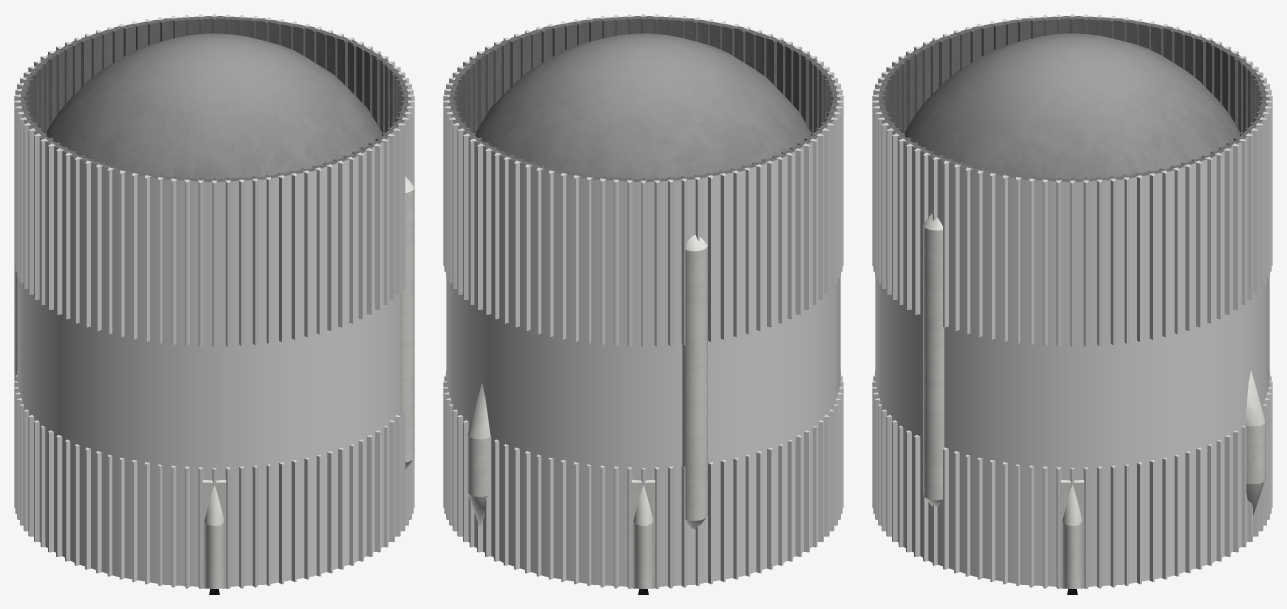
Rendered from ksprocket.fbx.
3 views of the same model, side by side, from view 1: azimuth 30°, elevation 25°; view 2: azimuth 150°, elevation 25°; view 3: azimuth 270°, elevation 25° (orthographic).
Visible parts, largest first — view 1: tank.007, bits.004; view 2: tank.007, bits.004; view 3: tank.007, bits.004.
Boxes of the visible parts, x1,y1,x2,y2 form: tank.007: (14,14,414,588); bits.004: (14,16,414,594); tank.007: (443,14,843,588); bits.004: (446,16,840,594); tank.007: (872,14,1272,588); bits.004: (875,16,1269,594).
Size of the model in its own units: 1061 by 1440 by 1026.
